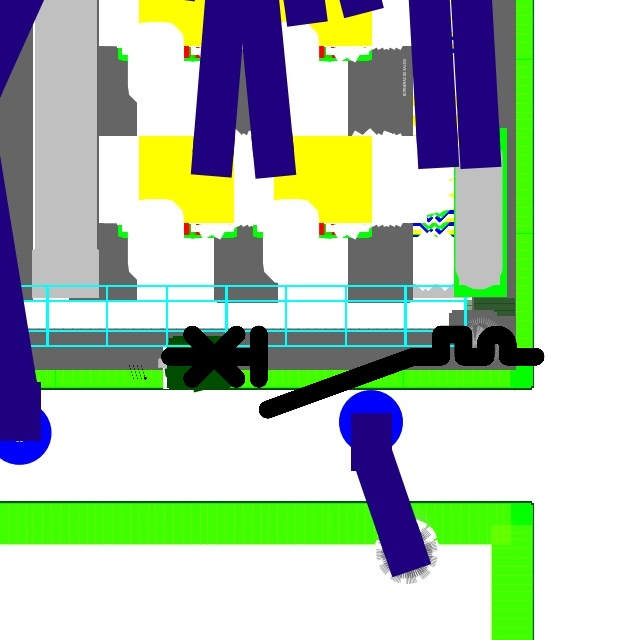interruptor_termomagnetico: (160, 325, 545, 419)
